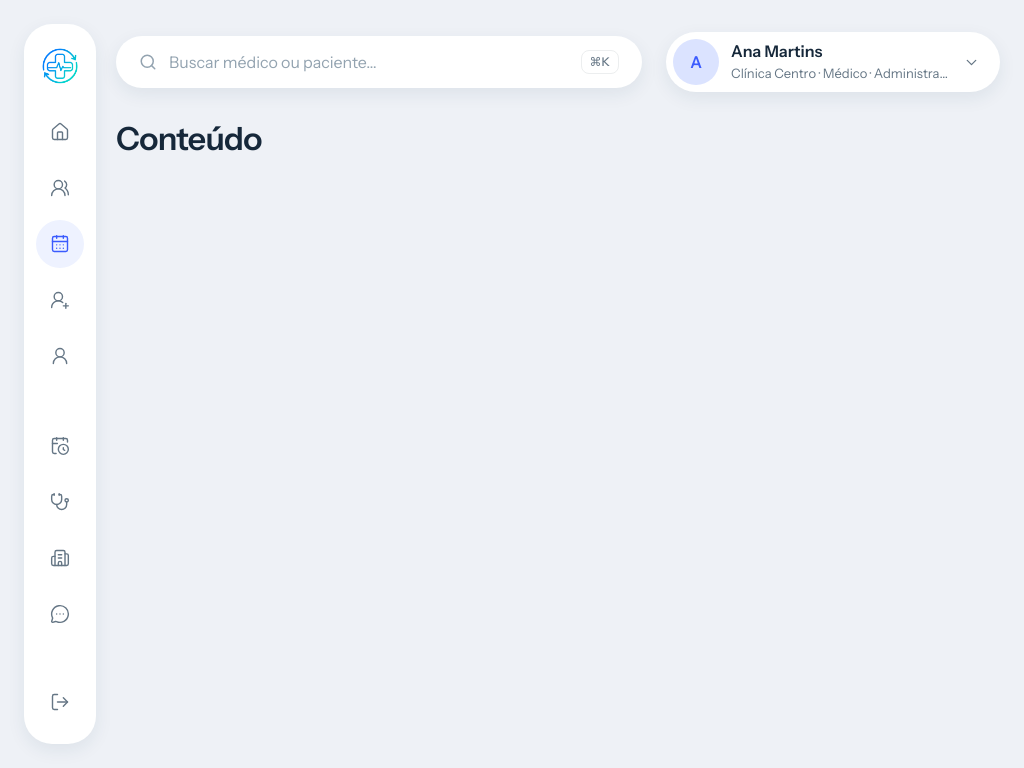
Scenario: menu de conta exibe somente o papel e admin do contexto ativo
Click the button with aria-label "Ana Martins, Clínica Centro, Médico, Administração" at (833, 62), box [666,32,1000,92]
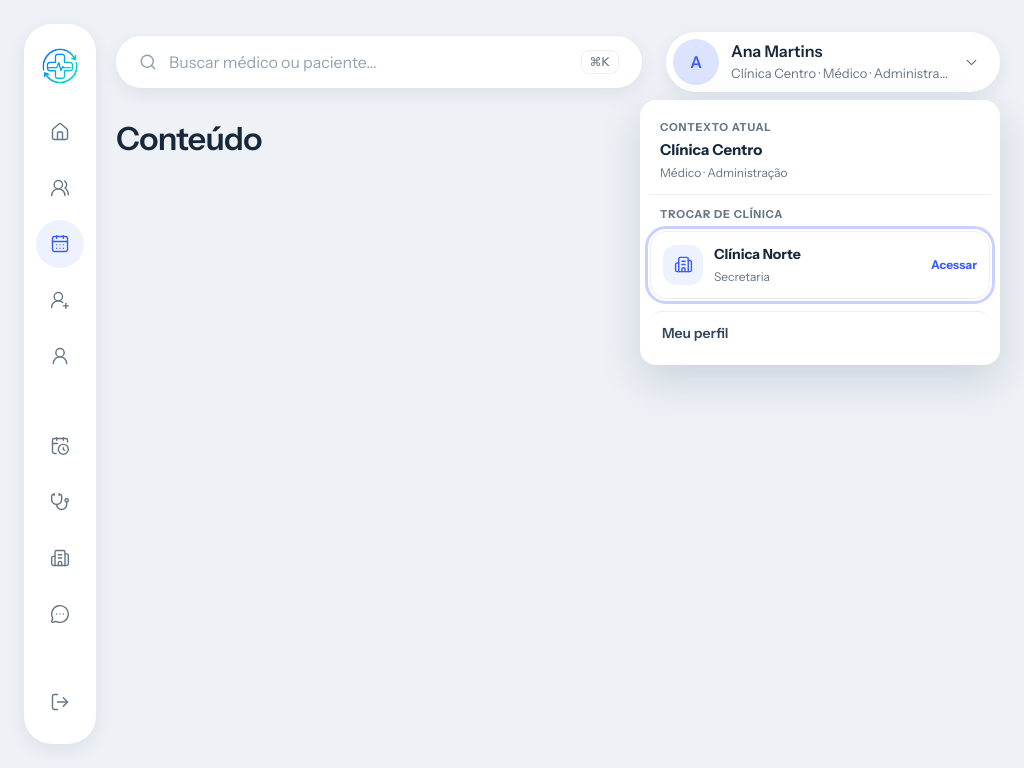
Check: the text "Contexto atual" is shown, box [660,120,772,134]
Check: the text "Clínica Centro" is shown, box [660,140,762,158]
Check: the text "Médico · Administração" is shown, box [660,165,788,180]
